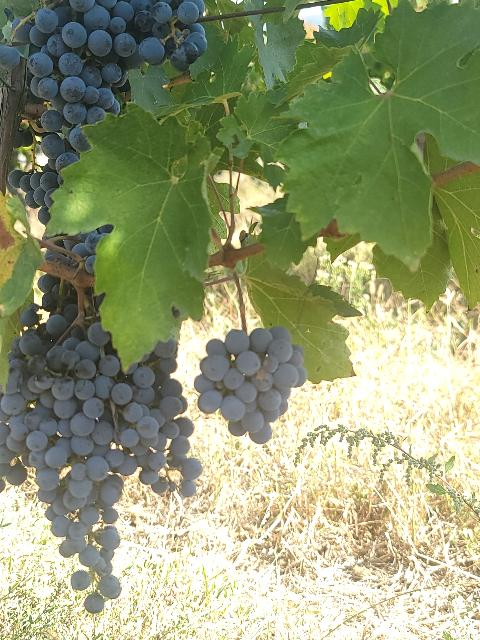grapes: (9, 0, 204, 208), (19, 315, 122, 611), (110, 339, 202, 496), (194, 326, 308, 444), (0, 339, 29, 485)
